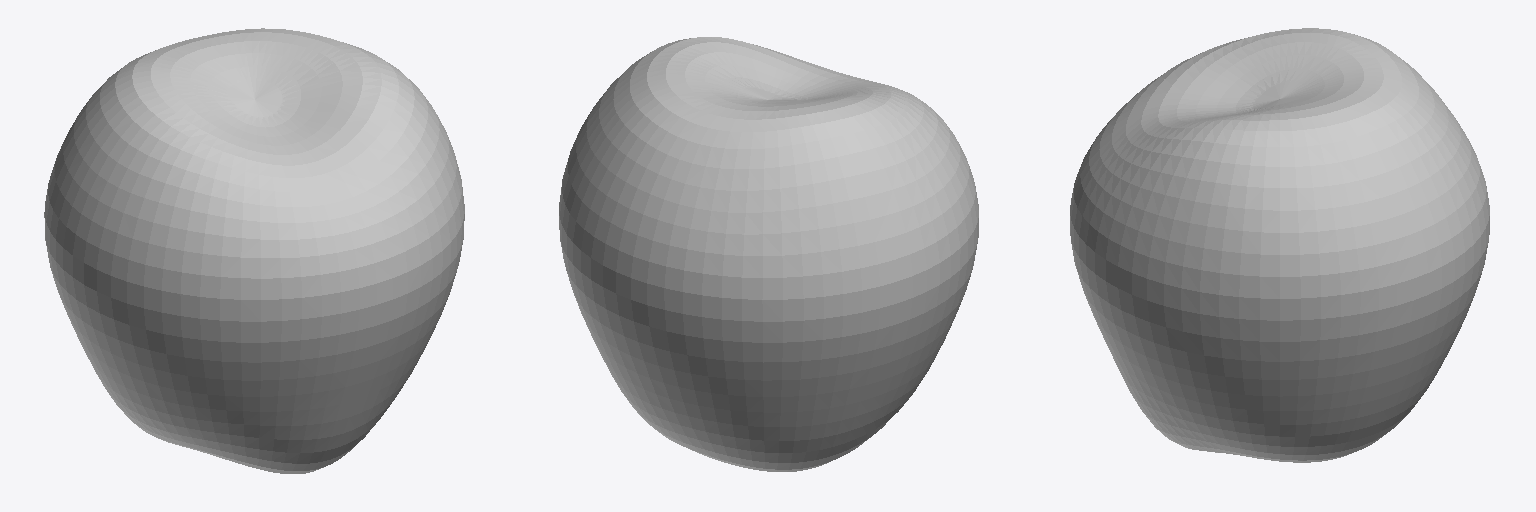
File: apple.obj
3 views of the same model, side by side, from view 1: azimuth 30°, elevation 25°; view 2: azimuth 150°, elevation 25°; view 3: azimuth 270°, elevation 25° (orthographic).
Visible parts, largest first — view 1: Sphere.004; view 2: Sphere.004; view 3: Sphere.004.
Part boxes in pixels (x1,y1,x2,y2): Sphere.004: (44, 28, 464, 473); Sphere.004: (559, 37, 978, 471); Sphere.004: (1070, 28, 1489, 462).
Bounding box in the file's own units: 2.77 × 2.64 × 2.75.